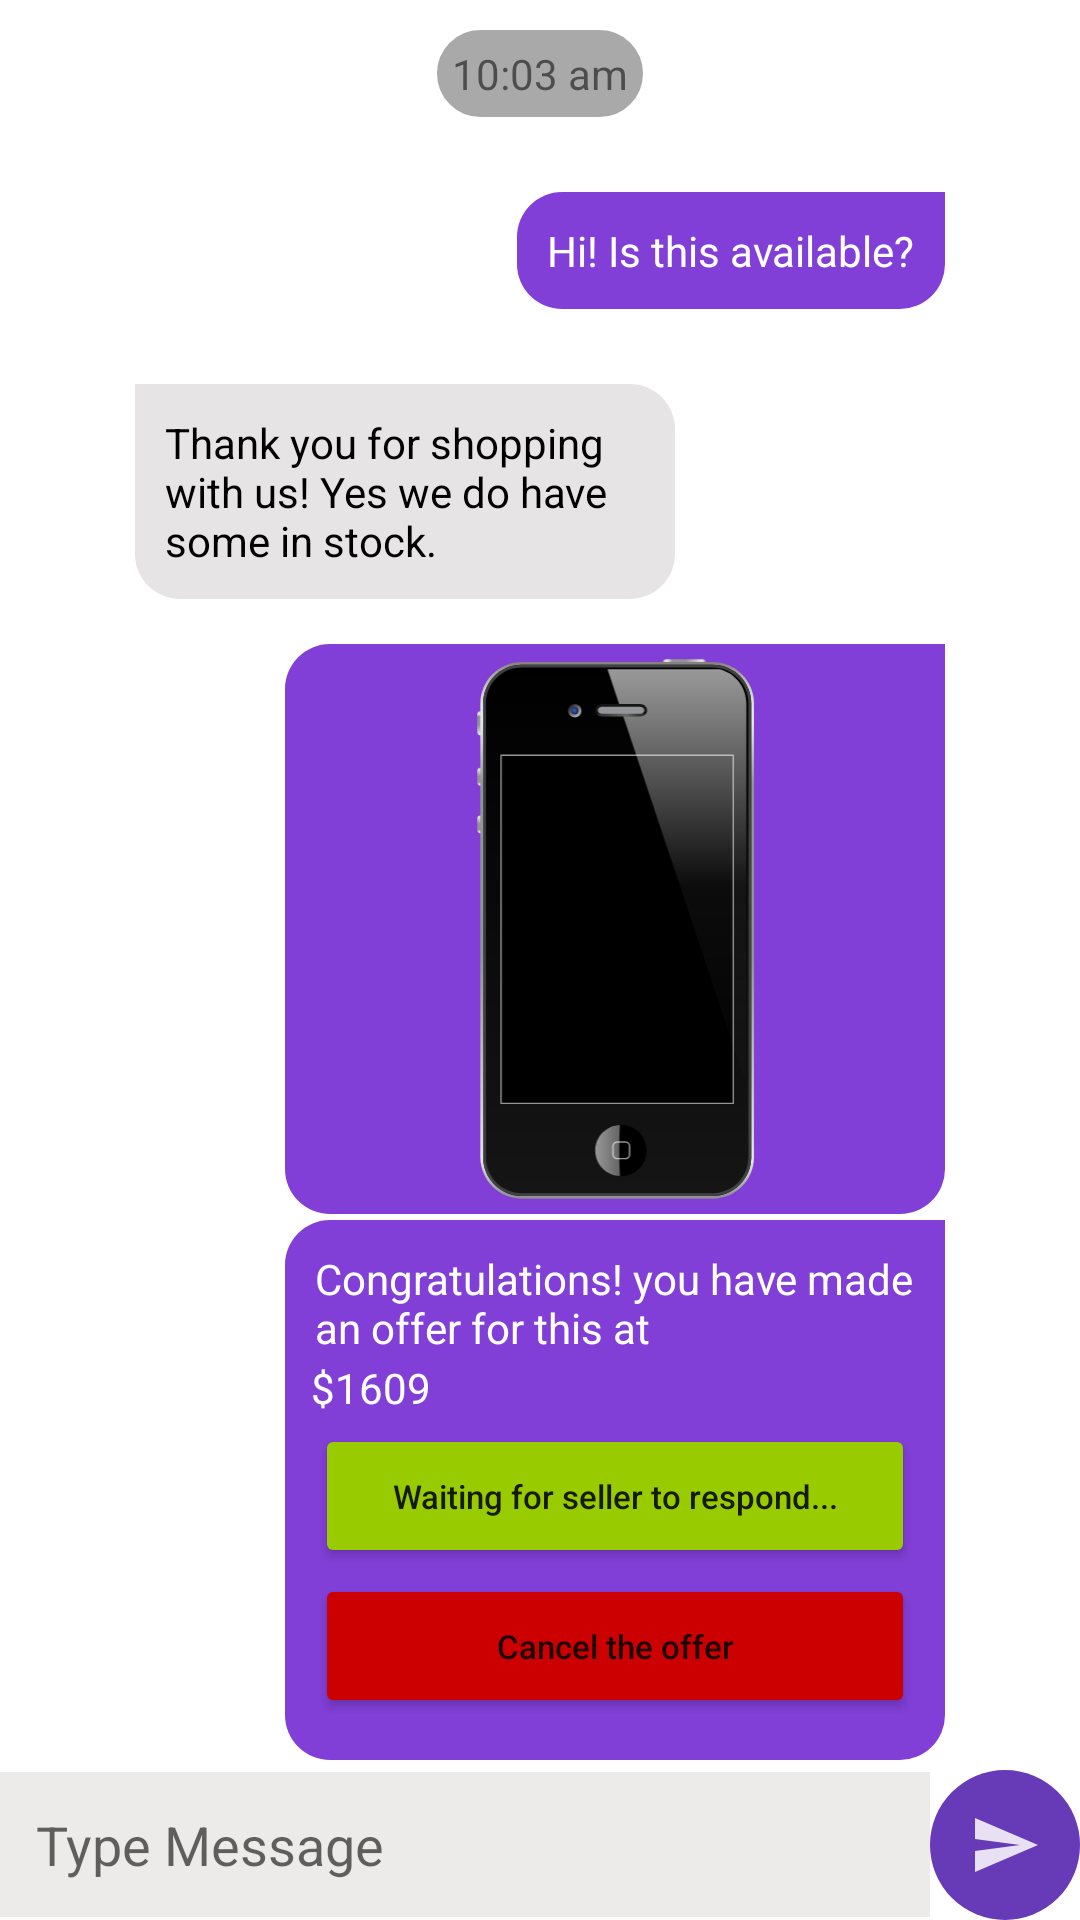

Icon bounding boxes for this 1080*1920 phone screenshot, format BBox(x1, y1, x2, y2):
send: BBox(930, 1770, 1080, 1920)
